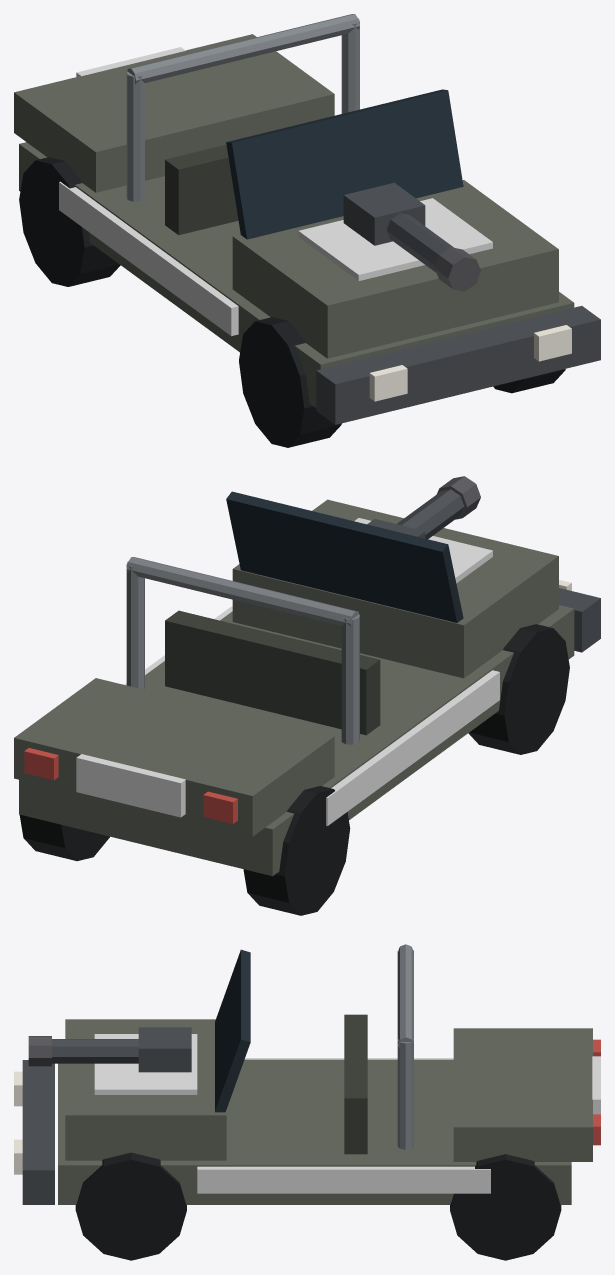
The model's file is RF_Vehicle_Jeep.glb.
3 renders of one model, top to bottom at view 1: azimuth 30°, elevation 25°; view 2: azimuth 150°, elevation 25°; view 3: azimuth 270°, elevation 25°, orthographic. The views are drawn at different scales.
Visible parts, largest first — view 1: RF_Vehicle_Jeep, TeamTrim, Wheel_FR, Wheel_RR, LightsFront, Muzzle, Wheel_FL; view 2: RF_Vehicle_Jeep, TeamTrim, Wheel_FR, Wheel_RR, Wheel_RL, LightsRear, Muzzle; view 3: RF_Vehicle_Jeep, TeamTrim, Wheel_FL, Wheel_RL, Muzzle, LightsFront.
Part boxes in pixels (x1,y1,x2,y2): RF_Vehicle_Jeep: (14,14,600,424); TeamTrim: (59,47,492,336); Wheel_FR: (239,317,341,447); Wheel_RR: (19,157,120,286); LightsFront: (369,325,571,401); Muzzle: (434,247,480,291); Wheel_FL: (493,369,565,393); RF_Vehicle_Jeep: (14,489,600,876); TeamTrim: (76,518,499,825); Wheel_FR: (468,624,569,754); Wheel_RR: (243,786,350,915); Wheel_RL: (19,814,109,861); LightsRear: (24,748,237,823); Muzzle: (437,476,480,519); RF_Vehicle_Jeep: (22,944,592,1204); TeamTrim: (94,1034,600,1193); Wheel_FL: (75,1152,186,1260); Wheel_RL: (450,1154,561,1260); Muzzle: (28,1036,51,1066); LightsFront: (14,1071,22,1174).
Size of the model in its own units: 1.8 by 1.62 by 4.
